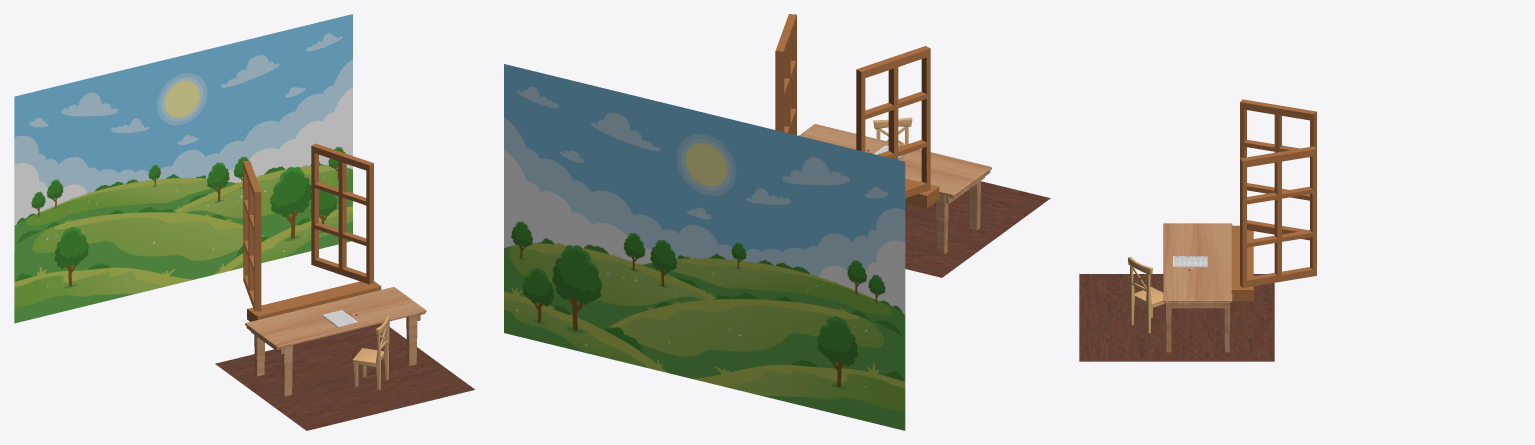
The model's file is PixelEnvironment.fbx.
The picture shows the model from 3 angles, left to right: view 1: azimuth 30°, elevation 25°; view 2: azimuth 150°, elevation 25°; view 3: azimuth 270°, elevation 25°; orthographic projection. The views are drawn at different scales.
Visible parts, largest first — view 1: Plane.001, Plane, Cube.001, Table.002, Cube, stul; view 2: Plane.001, Cube.001, Plane, Table.002, Cube; view 3: Plane, Cube.001, Table.002, stul, Cube.
Boxes of the visible parts, x1,y1,x2,y2 form: Plane.001: (14, 14, 352, 323); Plane: (215, 324, 474, 430); Cube.001: (243, 143, 373, 311); Table.002: (245, 287, 426, 396); Cube: (247, 281, 381, 321); stul: (352, 316, 389, 390); Plane.001: (504, 64, 905, 430); Cube.001: (775, 14, 930, 198); Plane: (905, 181, 1050, 277); Table.002: (799, 124, 991, 253); Cube: (905, 178, 939, 208); Plane: (1079, 274, 1274, 361); Cube.001: (1240, 99, 1316, 287); Table.002: (1163, 223, 1232, 352); stul: (1127, 257, 1165, 333); Cube: (1231, 225, 1253, 301).
Size of the model in its own units: 5528 by 3542 by 5869.
